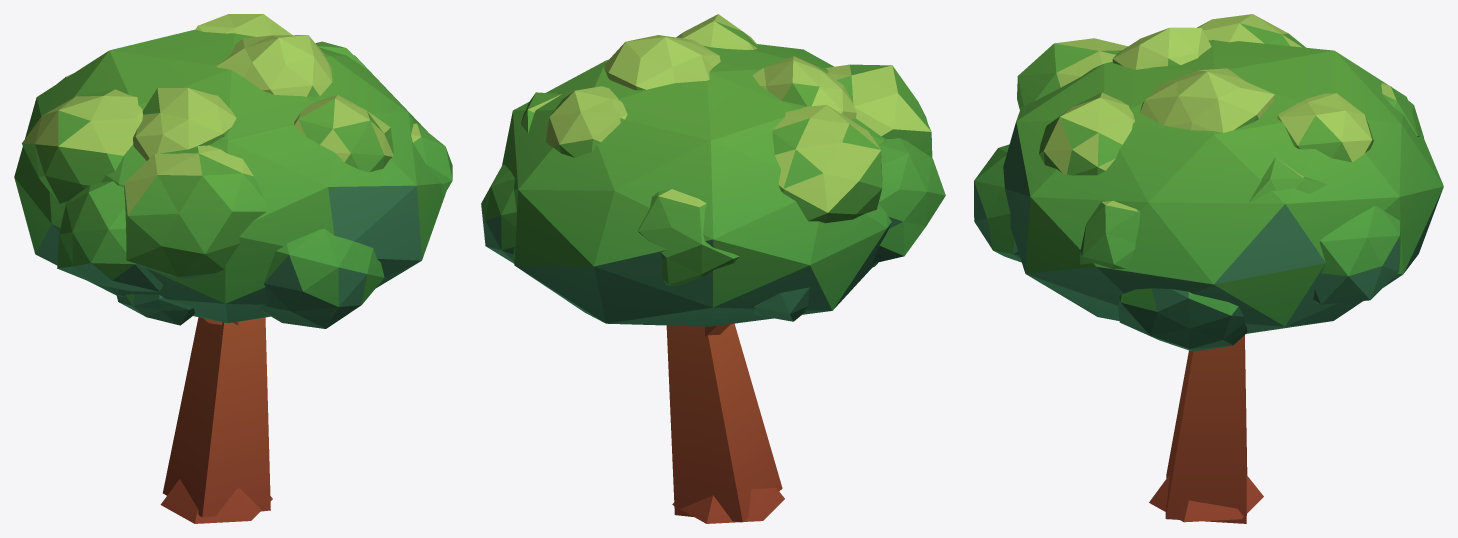
Rendered from leafy_tree_c.gltf.
The picture shows the model from 3 angles, left to right: view 1: azimuth 30°, elevation 25°; view 2: azimuth 150°, elevation 25°; view 3: azimuth 270°, elevation 25°; orthographic projection. The views are drawn at different scales.
Visible parts, largest first — view 1: leafy_tree_c; view 2: leafy_tree_c; view 3: leafy_tree_c.
Part boxes in pixels (bbox=[...]): leafy_tree_c: bbox=[14, 14, 452, 523]; leafy_tree_c: bbox=[481, 14, 945, 523]; leafy_tree_c: bbox=[974, 14, 1443, 523].
Bounding box in the file's own units: 3.14 × 3.54 × 3.24.
1 material, 1 textured.
